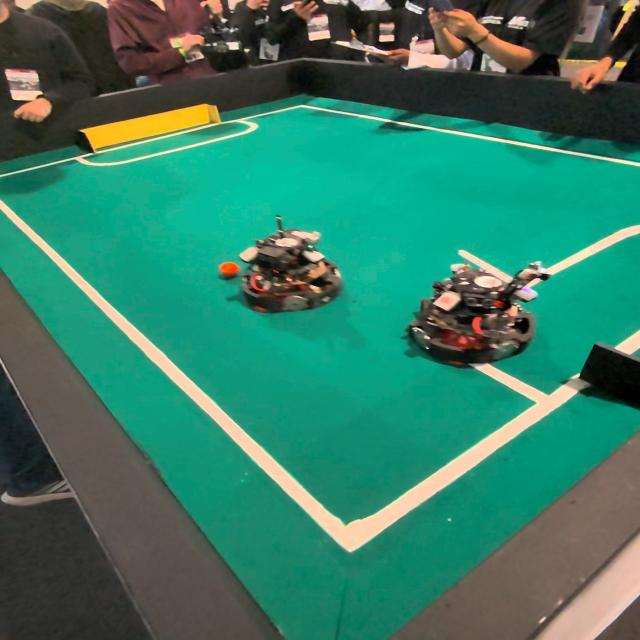Robot: (418, 240, 545, 366), (232, 220, 351, 315)
pelota: (213, 262, 239, 276)
